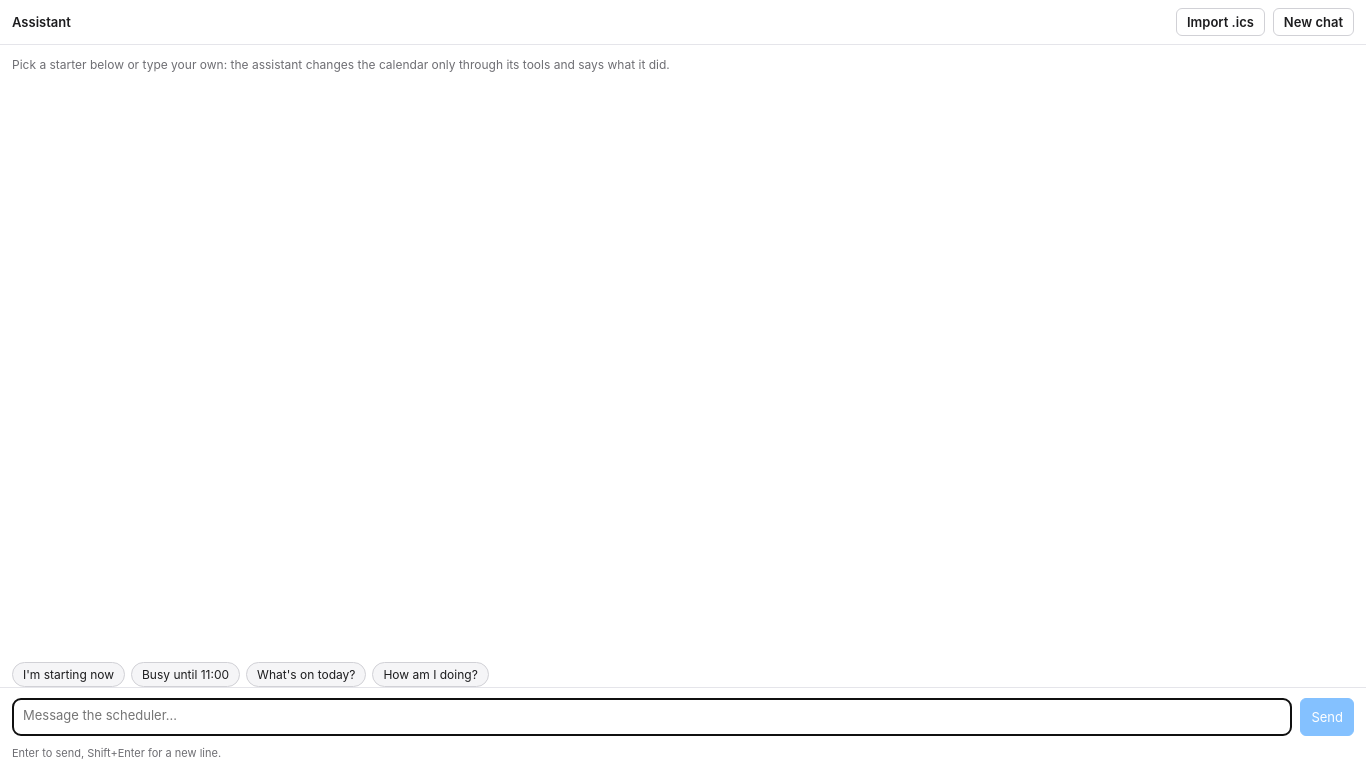
Test case: ChatPanel: a streamed reply › an errored tool row is marked and shows the error
Type "carry over x" into the text box with placeholder "Message the scheduler…". click: (652, 717)
box: left=12, top=698, right=1292, bottom=736
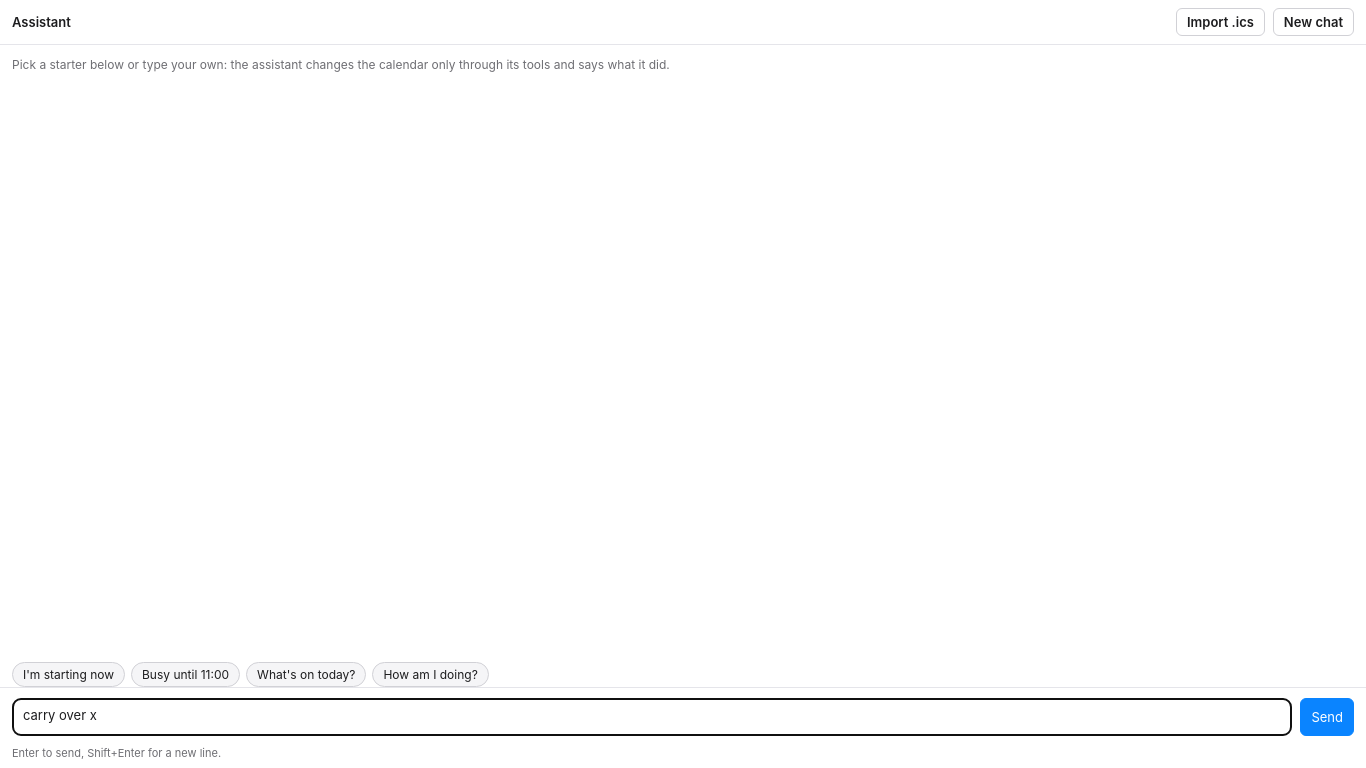
Click the button "Send". click: (1327, 717)
box: left=1300, top=698, right=1354, bottom=736
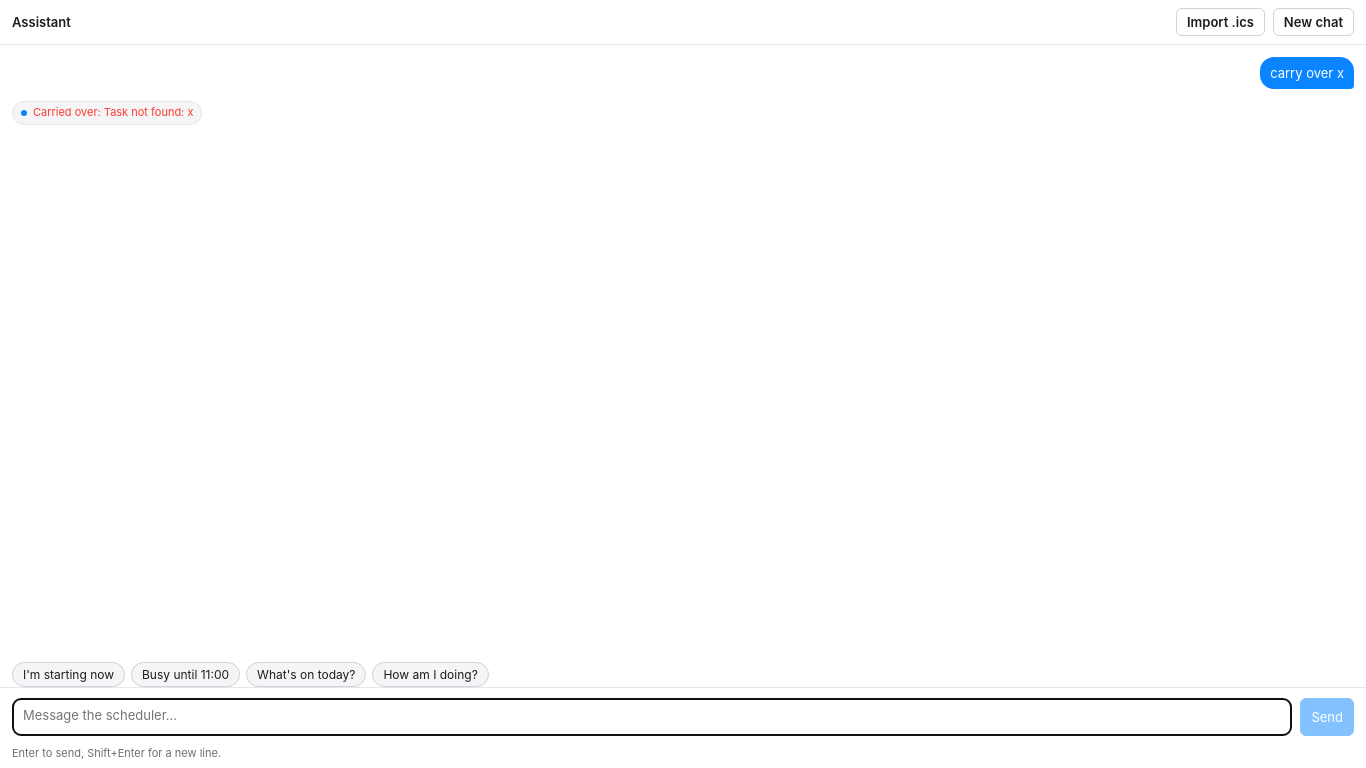
Expected: the text "Carried over: Task not found: x" is shown, left=33, top=105, right=193, bottom=121
